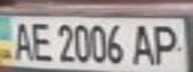0: (90, 21, 109, 64), (72, 20, 90, 64)
2: (51, 20, 75, 63)
6: (106, 20, 130, 65)
A: (127, 20, 160, 68), (6, 18, 36, 62)
E: (27, 19, 54, 63)
P: (148, 20, 187, 68)
